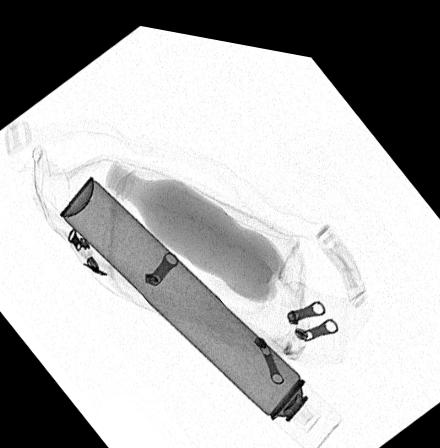Sprayer: (59, 171, 342, 440)
